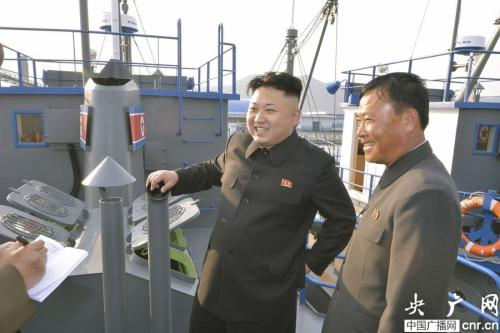person: (145, 69, 357, 333), (320, 71, 463, 333)
